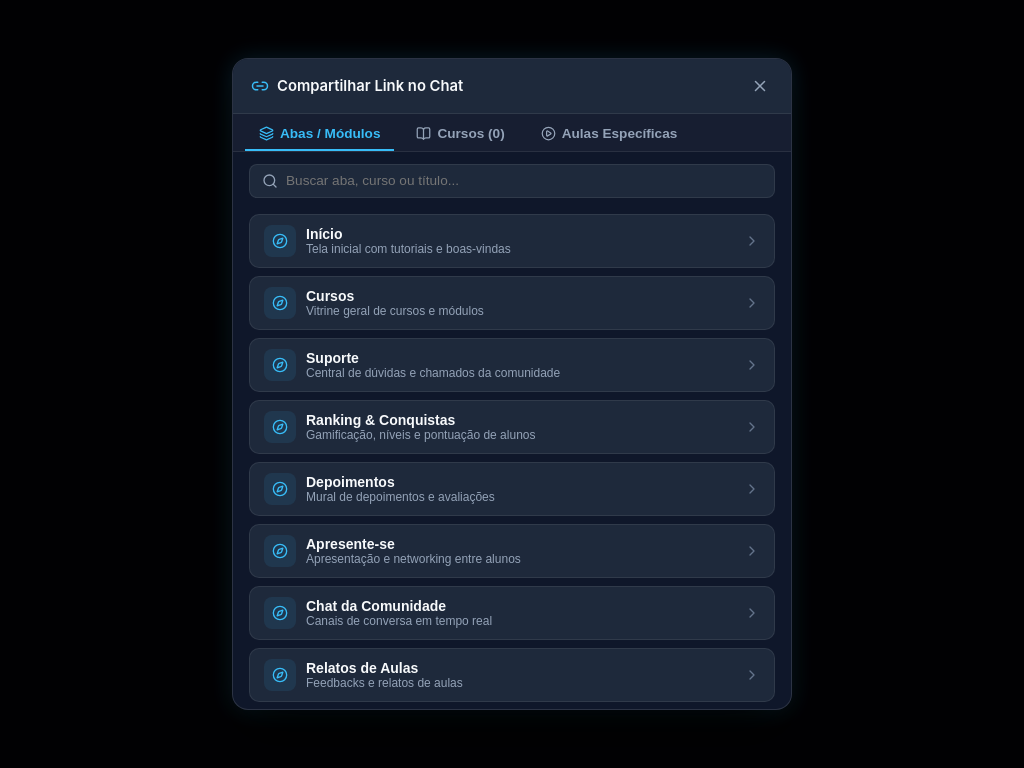
ChatInternalLinkModal Component › filters tabs based on search term
Step 1. Type "ranking" into the field with test id "internal-link-search-input" → (524,181), box [286,173,762,188]
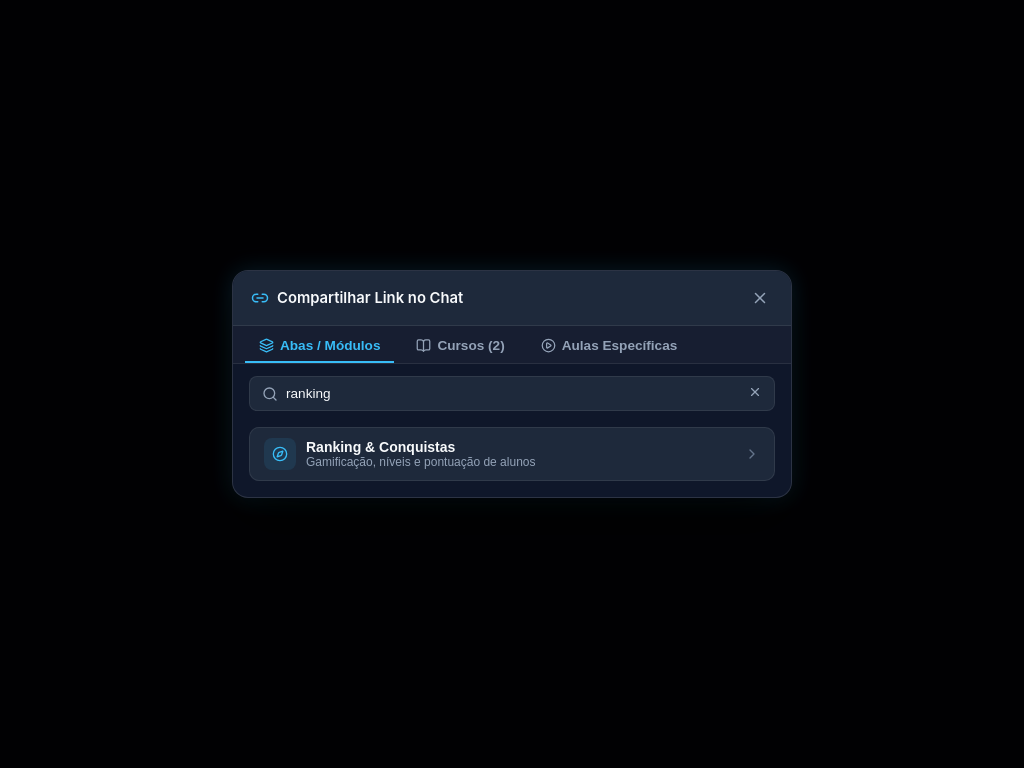
Expected: the button with test id "select-tab-ranking" is shown, [249,427,775,481]
Expected: the button with test id "select-tab-home" is gone
